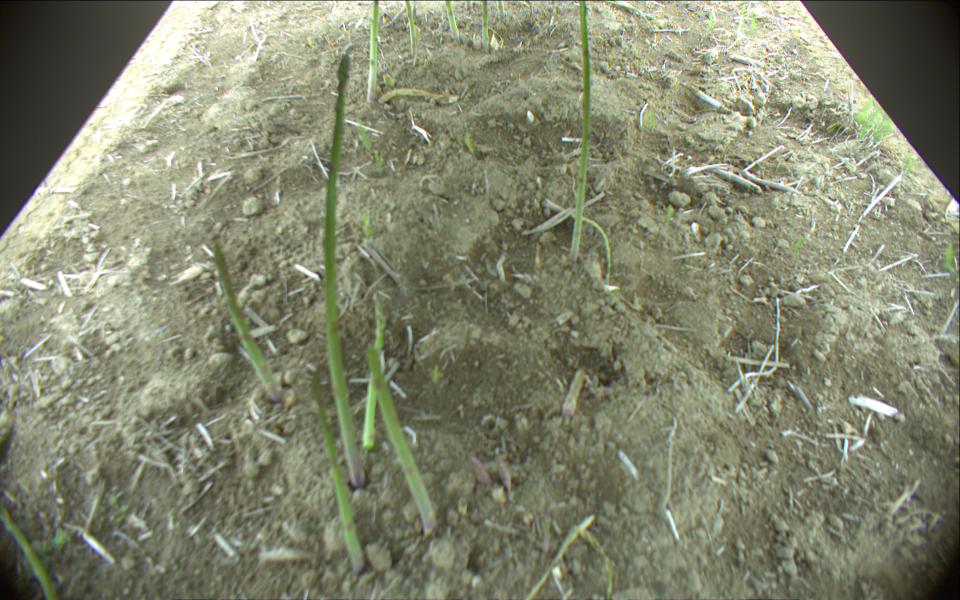aspa: (323, 55, 365, 490), (365, 343, 439, 537), (212, 240, 284, 405), (311, 374, 368, 572), (521, 513, 594, 600), (1, 506, 62, 599), (570, 1, 590, 264), (360, 292, 388, 449), (568, 214, 612, 286), (576, 529, 612, 600), (365, 1, 381, 103), (562, 364, 588, 419), (402, 1, 418, 59), (468, 453, 490, 489), (444, 1, 460, 43), (496, 458, 512, 490), (482, 1, 490, 50), (496, 1, 505, 20), (465, 1, 473, 10)
